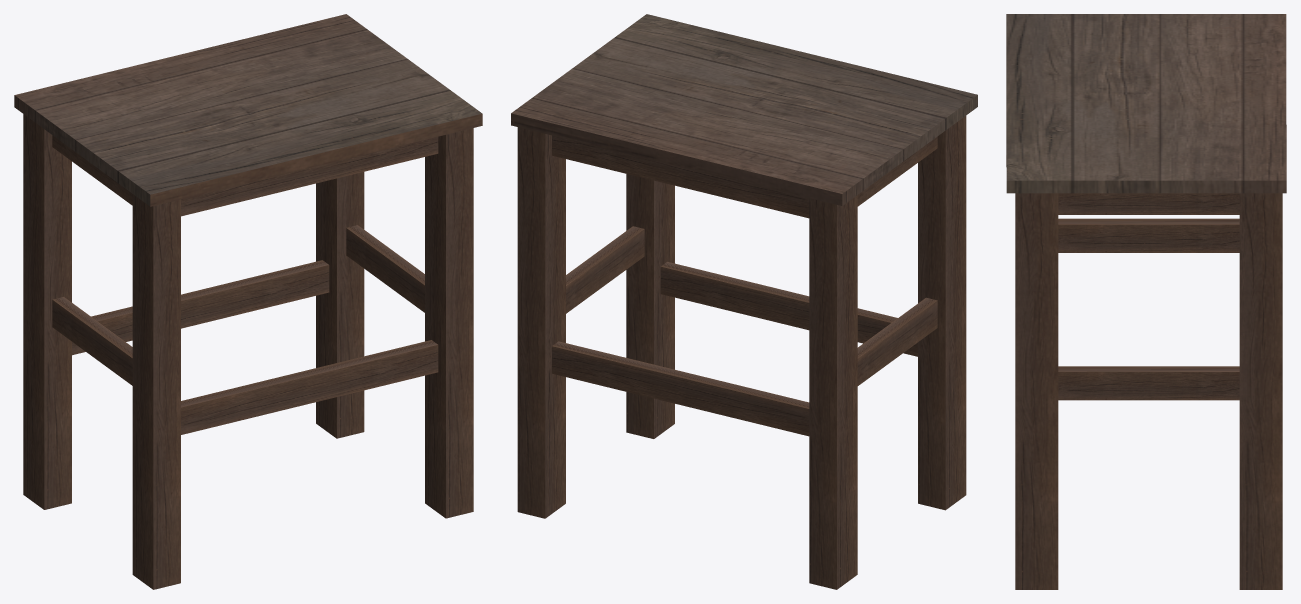
File: jov_shelf06a.fbx
The picture shows the model from 3 angles, left to right: view 1: azimuth 30°, elevation 25°; view 2: azimuth 150°, elevation 25°; view 3: azimuth 270°, elevation 25°; orthographic projection. The views are drawn at different scales.
Parts seen in each view (by area): view 1: jov_shelf06a; view 2: jov_shelf06a; view 3: jov_shelf06a.
Part boxes in pixels (bbox=[...]): jov_shelf06a: bbox=[14, 14, 482, 589]; jov_shelf06a: bbox=[511, 14, 977, 589]; jov_shelf06a: bbox=[1006, 14, 1286, 589].
Size of the model in its own units: 71.29 by 82.06 by 50.62.
